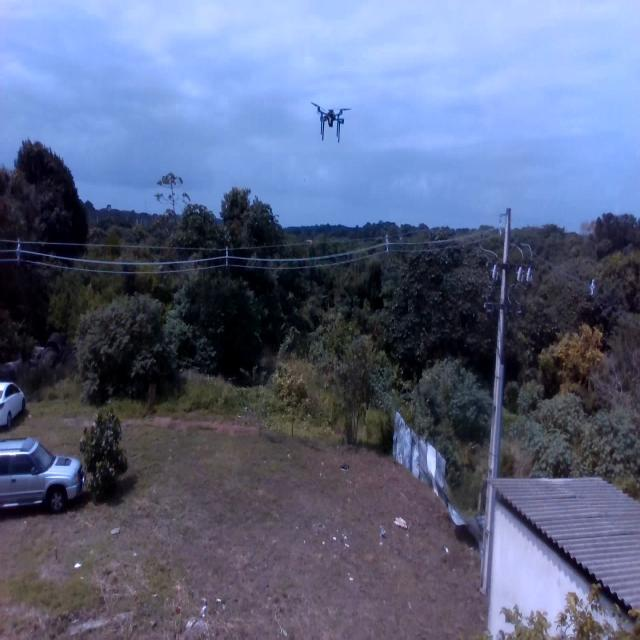-uav-: (303, 92, 356, 151)
